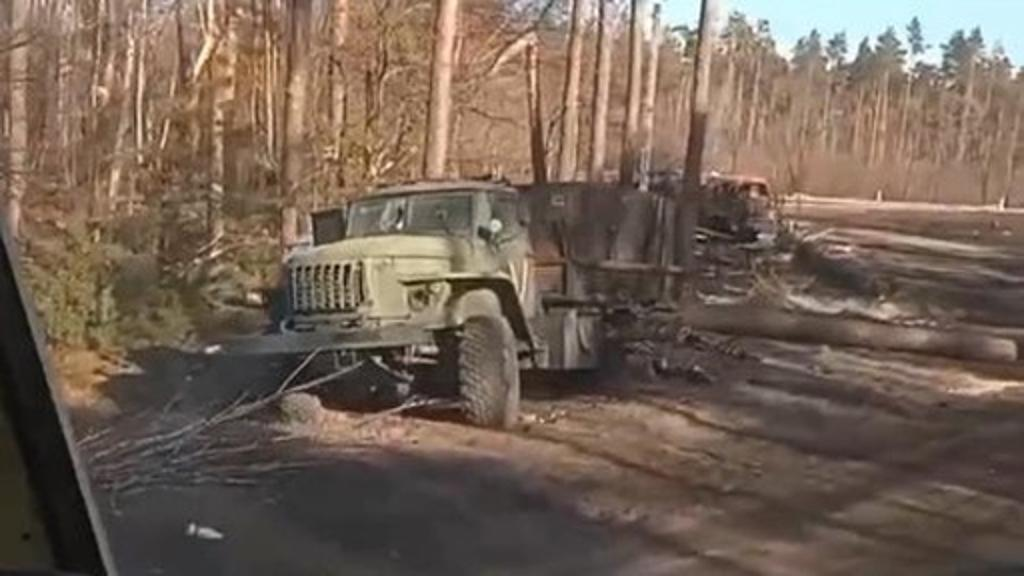TRUCK: (250, 154, 680, 428)
